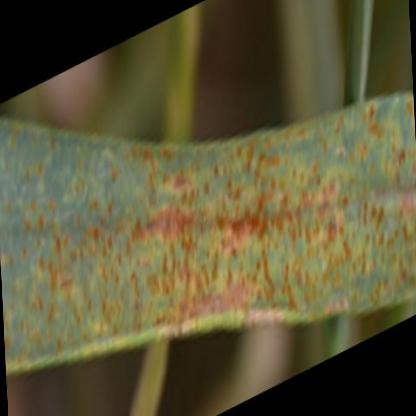Wheat Brown-rust: (5, 146, 94, 349), (306, 158, 408, 288), (132, 150, 181, 322), (255, 153, 301, 304), (97, 158, 127, 338), (186, 161, 216, 314), (220, 161, 250, 311), (364, 106, 384, 144), (295, 122, 308, 146), (333, 114, 343, 133), (406, 96, 412, 127)
